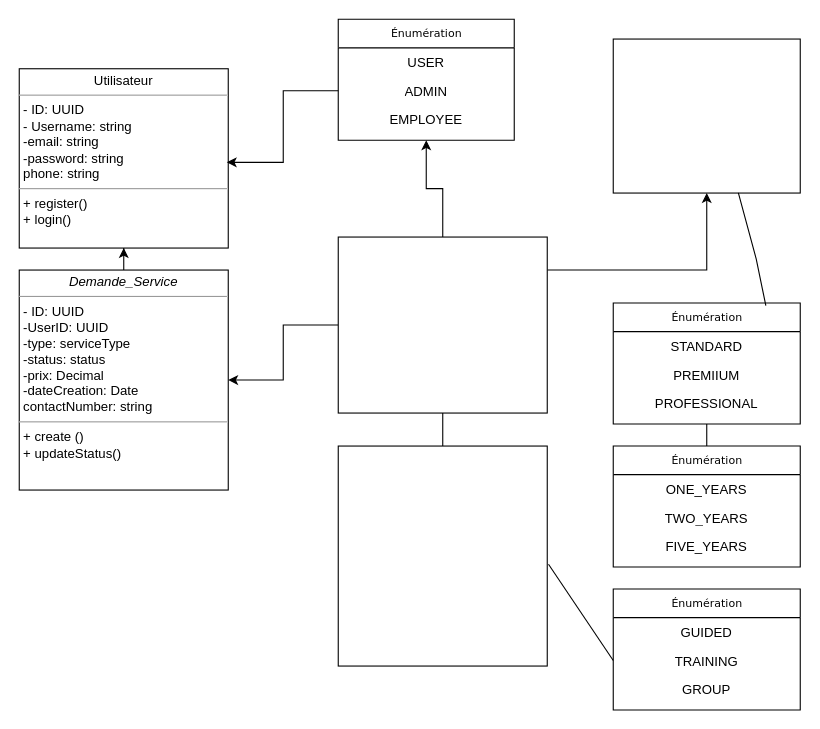
This 820x729 diagram has some shape labels left out. The shapes that lost their labels are listed below. From the top down, each one's box as (x1, y1, x2, y2) in pixels, then its label:
(612, 38, 800, 193): licence -ID -demandeServiceId -type LICENCE DUREE
(337, 236, 547, 413): session -ID -type -notes PENDING APPROVED REJECTED COMPLETED CANCELLED
(337, 445, 547, 666): Session_type - SessionType + type + date + notes +prix
